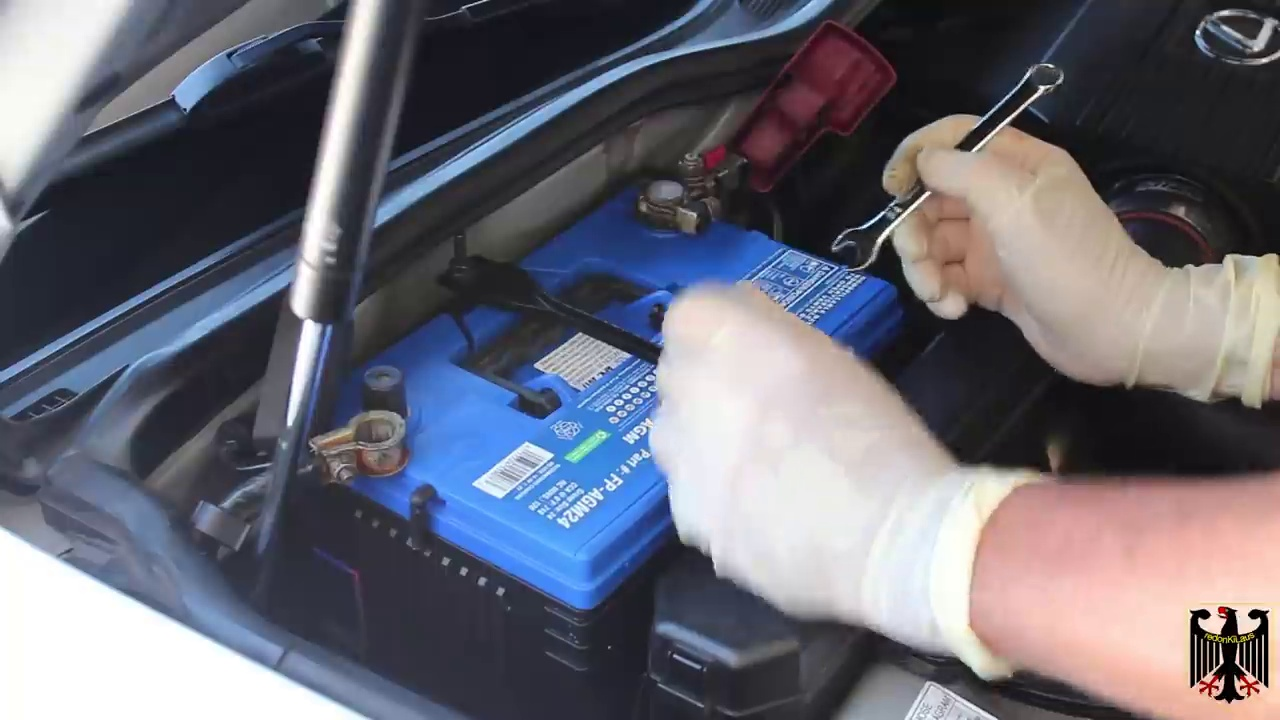battery: (311, 169, 903, 566)
pos_connected: (621, 29, 817, 256)
